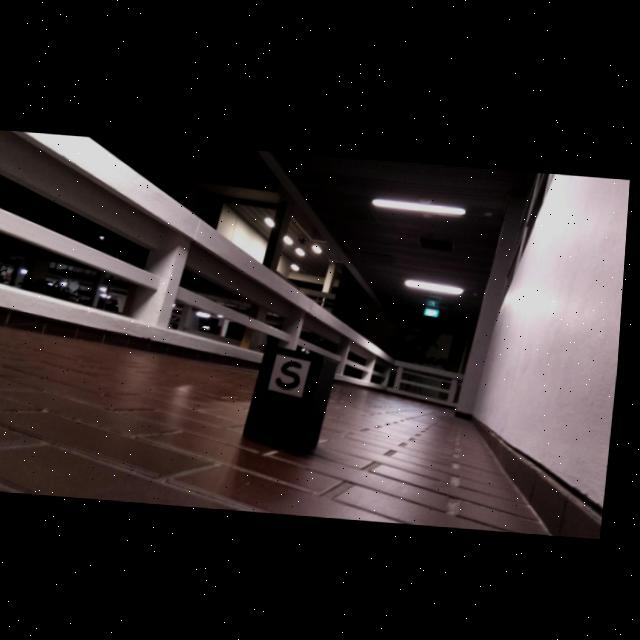S: (280, 359, 306, 386)
